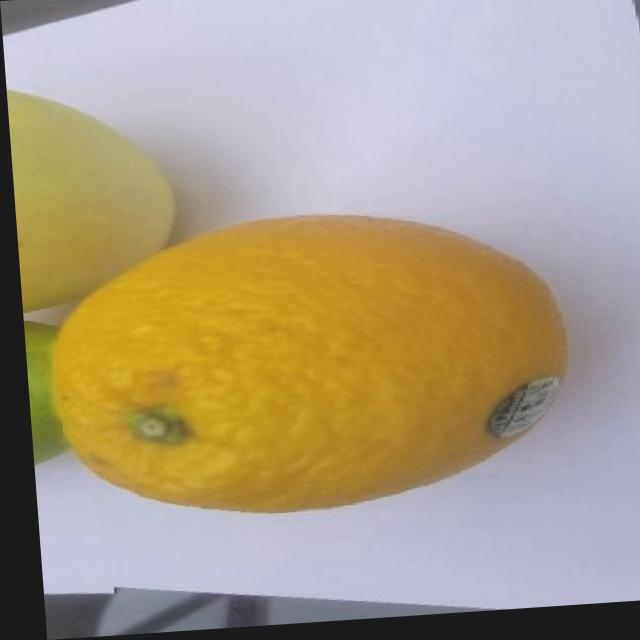Orange: (33, 201, 578, 533)
